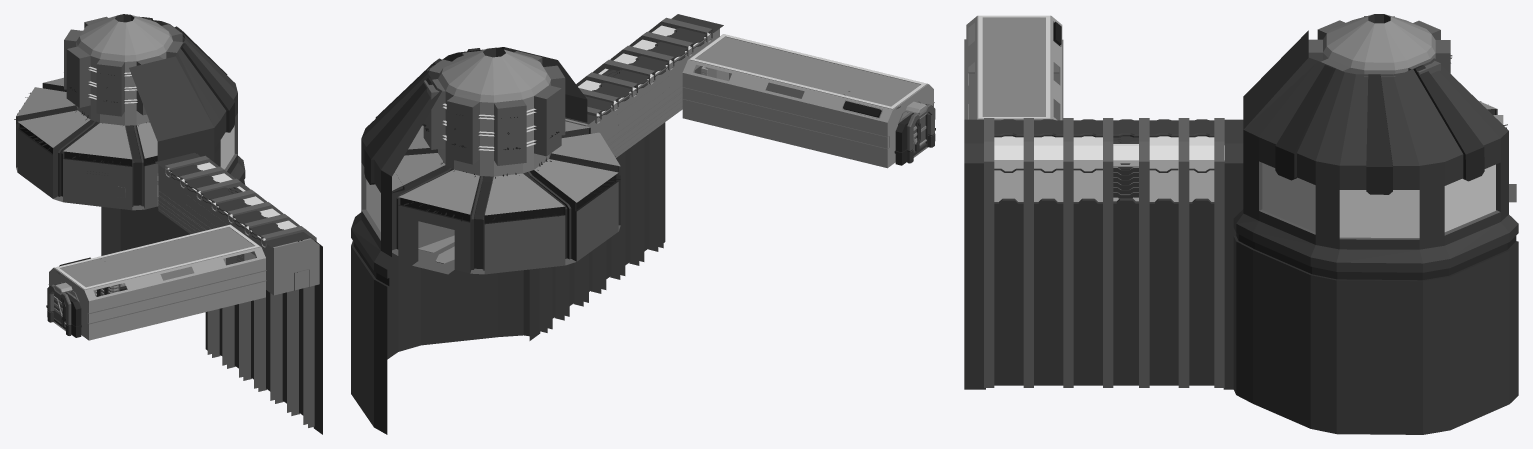
The model's file is env_test_interior.FBX.
3 renders of one model, left to right at view 1: azimuth 30°, elevation 25°; view 2: azimuth 150°, elevation 25°; view 3: azimuth 270°, elevation 25°, orthographic. The views are drawn at different scales.
Visible parts, largest first — view 1: serverroom_A, serverroom_A_pillars, hall_A, hall_B_pillars, hall_B, hall_B_window_wall, hall_B_window_ceiling, door_A_rim, hall_A_glow, glass_hall, glass_octagon_out; view 2: serverroom_A, serverroom_A_pillars, hall_A, hall_B_pillars, hall_B, hall_B_window_ceiling, hall_B_window_wall, door_A_rim, hall_A_glow, glass_hall; view 3: serverroom_A, hall_B_window_wall, hall_B_pillars, hall_A, glass_hall, glass_octagon_out, serverroom_A_pillars, hall_B_window_ceiling, hall_A_glow, hall_B_window_shutters, hall_glass_cover.
Part boxes in pixels (x1,y1,x2,y2): serverroom_A: (16, 17, 245, 255); serverroom_A_pillars: (16, 14, 183, 208); hall_A: (48, 225, 266, 340); hall_B_pillars: (155, 152, 322, 434); hall_B: (158, 165, 319, 295); hall_B_window_wall: (219, 288, 303, 415); hall_B_window_ceiling: (169, 164, 283, 240); door_A_rim: (46, 282, 81, 337); hall_A_glow: (55, 224, 259, 289); glass_hall: (167, 162, 296, 240); glass_octagon_out: (220, 125, 234, 169); serverroom_A: (351, 47, 620, 434); serverroom_A_pillars: (392, 47, 620, 272); hall_A: (682, 34, 934, 168); hall_B_pillars: (529, 14, 723, 340); hall_B: (565, 28, 719, 157); hall_B_window_ceiling: (585, 28, 706, 117); hall_B_window_wall: (552, 134, 649, 318); door_A_rim: (894, 101, 935, 165); hall_A_glow: (689, 34, 926, 108); glass_hall: (578, 25, 709, 116); serverroom_A: (1233, 30, 1518, 434); hall_B_window_wall: (994, 168, 1214, 385); hall_B_pillars: (964, 118, 1243, 389); hall_A: (964, 15, 1063, 120); glass_hall: (994, 136, 1224, 201); glass_octagon_out: (1262, 163, 1495, 237); serverroom_A_pillars: (1308, 14, 1503, 124); hall_B_window_ceiling: (994, 119, 1214, 137); hall_A_glow: (968, 15, 1050, 119); hall_B_window_shutters: (1113, 136, 1138, 198); hall_glass_cover: (1113, 144, 1138, 201).
Bounding box in the file's own units: 1206 × 1065 × 1503.
